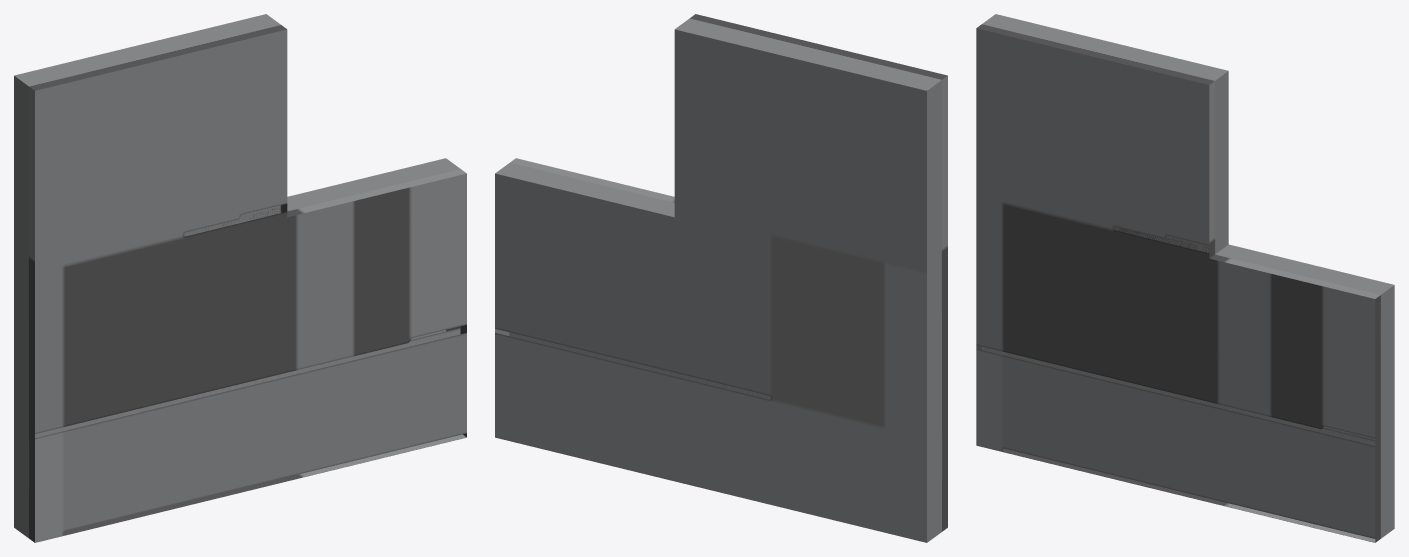
3 renders of one model, left to right at view 1: azimuth 30°, elevation 25°; view 2: azimuth 150°, elevation 25°; view 3: azimuth 330°, elevation 25°, orthographic. The views are drawn at different scales.
Size of the model in its own units: 0.95 by 0.95 by 0.08.
